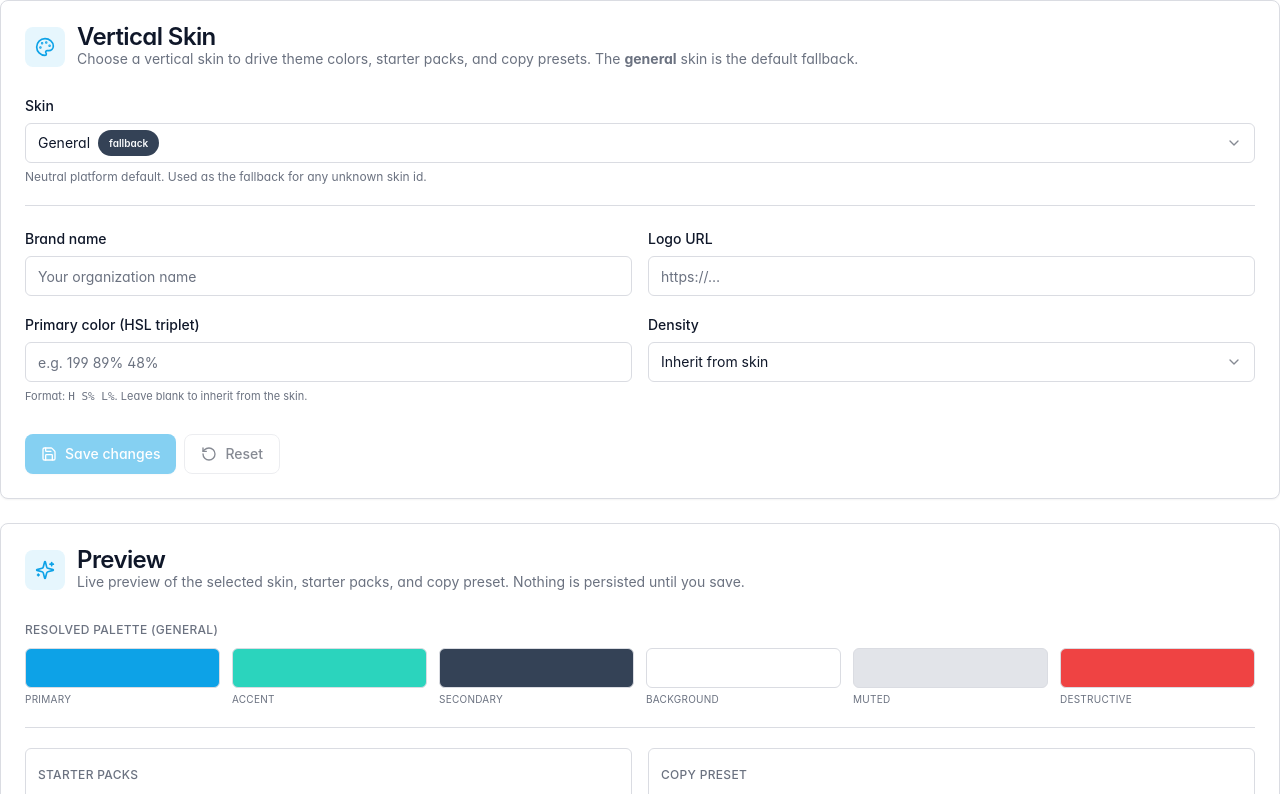
Scenario: AppearanceSection › Reset reverts unsaved changes
In the field labelled "Brand name": (328, 276) [25, 256, 632, 296], type "Temp"
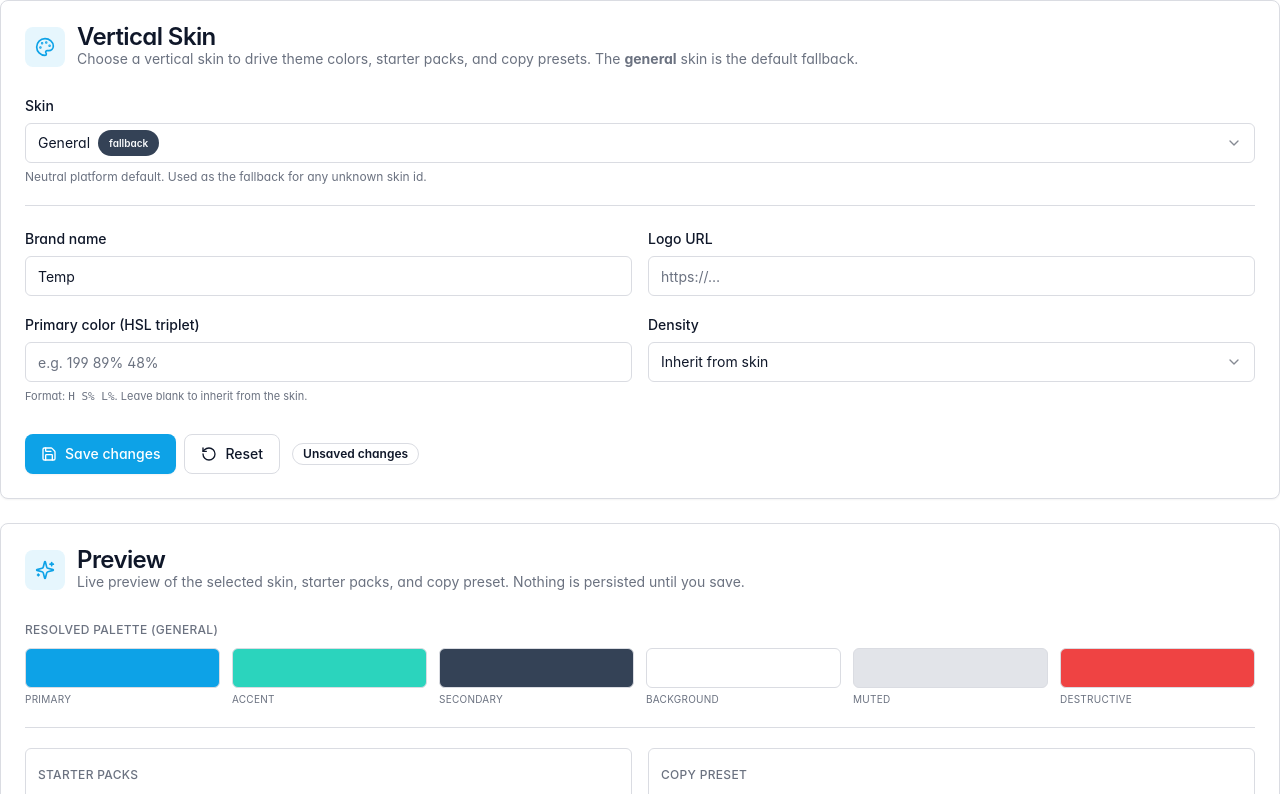
Click the button "Reset": click(232, 454) [184, 434, 280, 474]
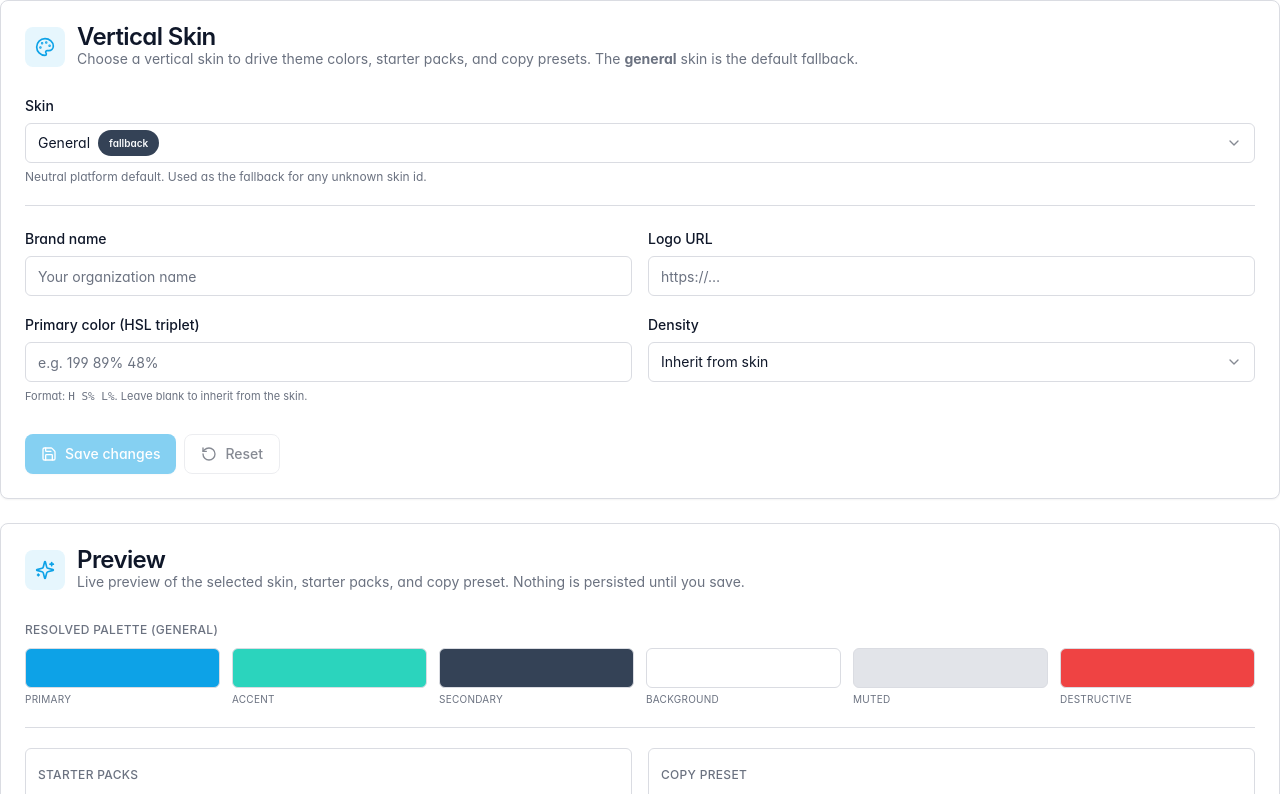
Now the field labelled "Brand name" is empty, box [25, 256, 632, 296]
Now the text "Unsaved changes" is gone
